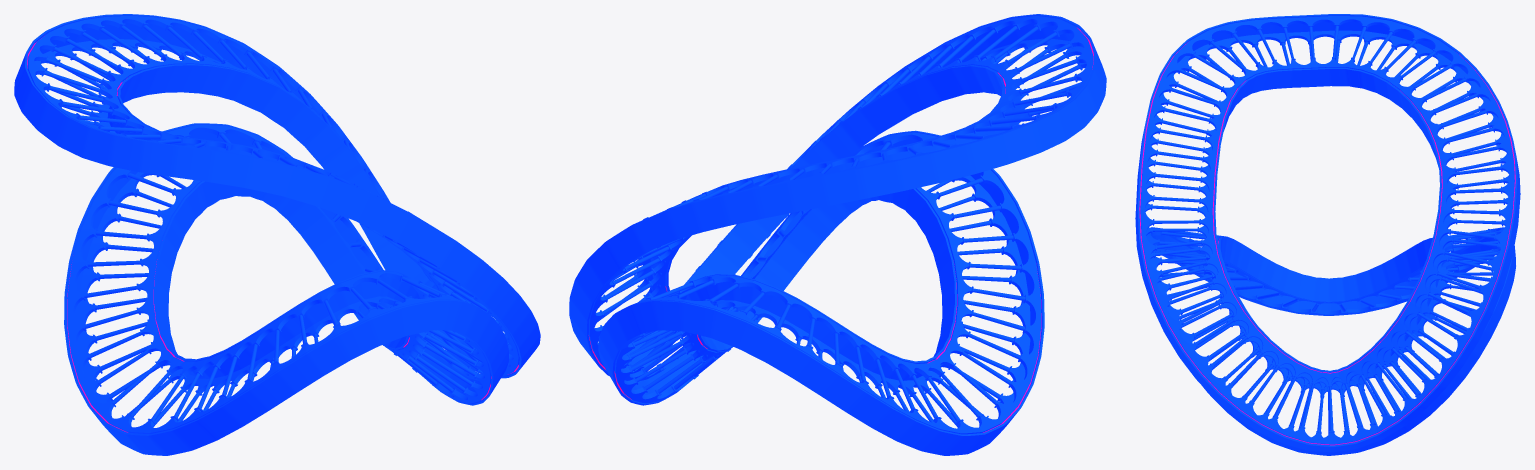
The model's file is chair_1.fbx.
3 renders of one model, left to right at view 1: azimuth 30°, elevation 25°; view 2: azimuth 150°, elevation 25°; view 3: azimuth 270°, elevation 25°, orthographic. The views are drawn at different scales.
Visible parts, largest first — view 1: chair_1_1_rd; view 2: chair_1_1_rd; view 3: chair_1_1_rd.
Part boxes in pixels (x1,y1,x2,y2): chair_1_1_rd: [14, 14, 540, 455]; chair_1_1_rd: [569, 14, 1106, 455]; chair_1_1_rd: [1135, 14, 1520, 455].
Size of the model in its own units: 922 by 760 by 889.
